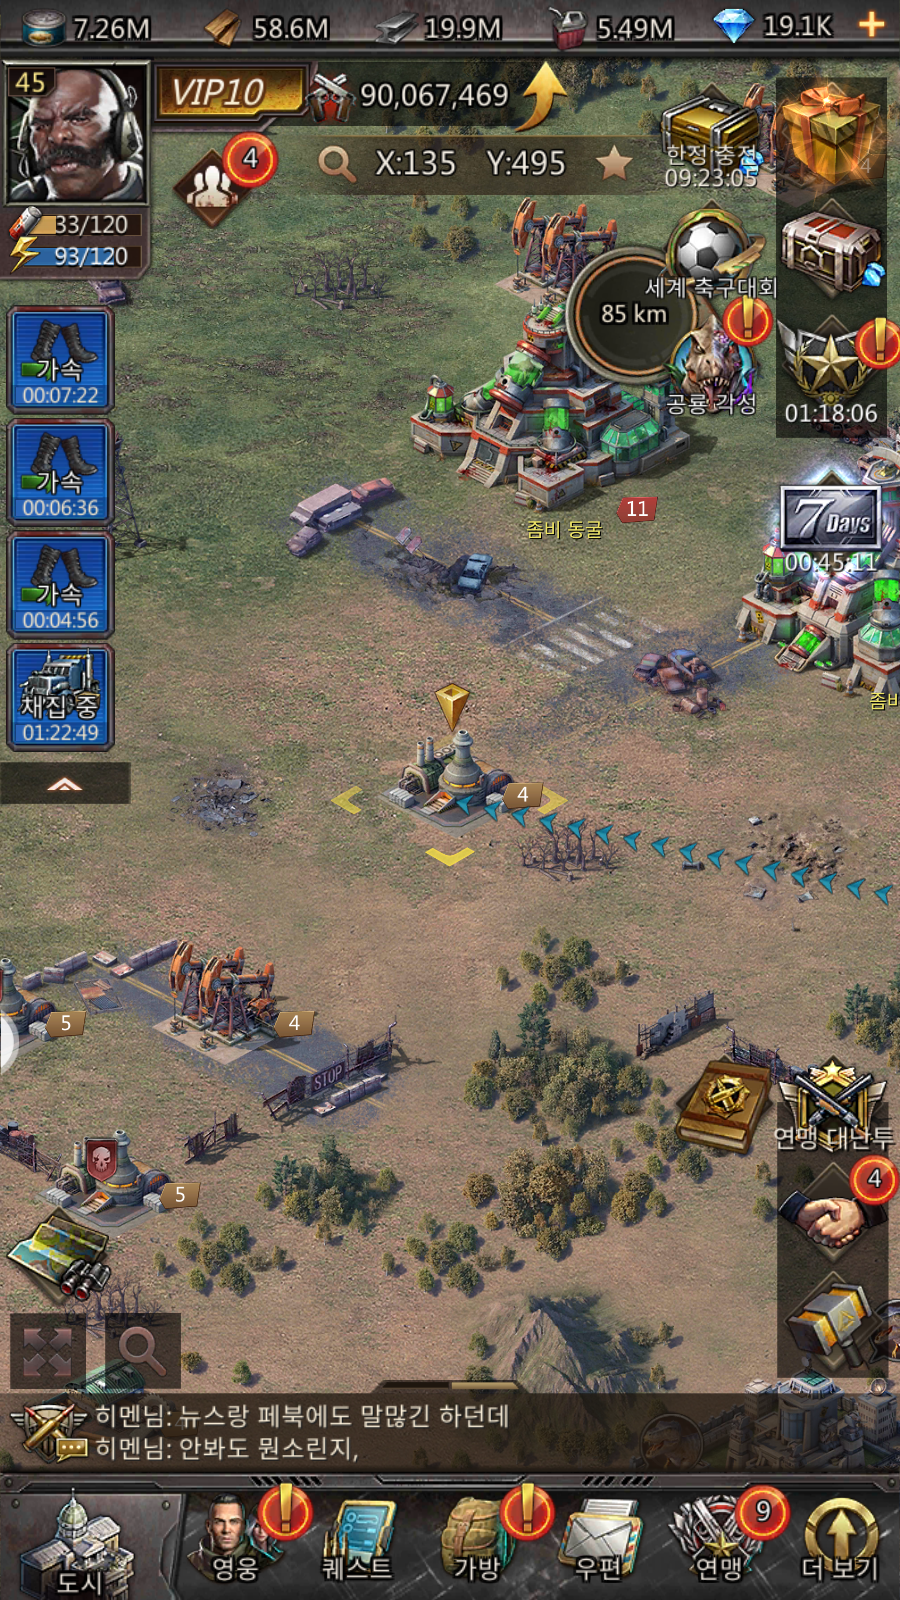city: (12, 1491, 176, 1600)
occupied_steel: (318, 656, 598, 893)
open_panel: (98, 1303, 200, 1408)
troops_cnt_4: (151, 120, 288, 242)
